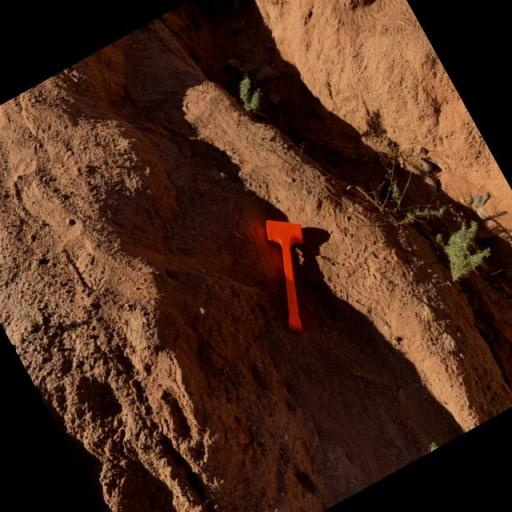mallet: (237, 204, 349, 338)
